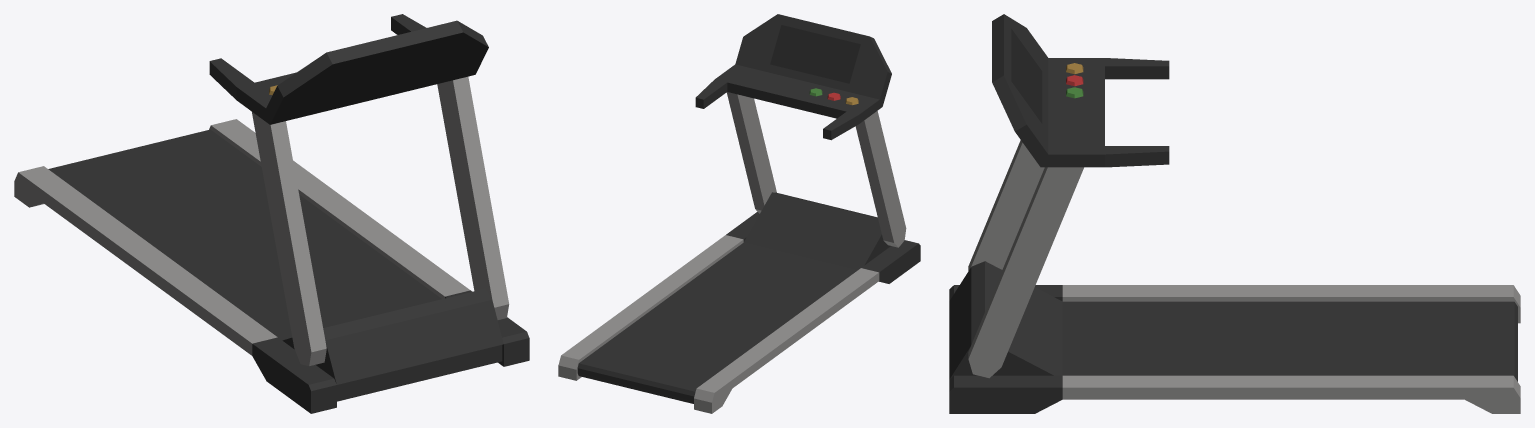
Rendered from SM_Props_Interior_Shop_Gym_Treadmill.fbx.
3 views of the same model, side by side, from view 1: azimuth 30°, elevation 25°; view 2: azimuth 150°, elevation 25°; view 3: azimuth 270°, elevation 25° (orthographic). The views are drawn at different scales.
Parts seen in each view (by area): view 1: SM_Props_Interior_Shop_Gym_Treadmill; view 2: SM_Props_Interior_Shop_Gym_Treadmill; view 3: SM_Props_Interior_Shop_Gym_Treadmill.
Boxes of the visible parts, x1,y1,x2,y2 form: SM_Props_Interior_Shop_Gym_Treadmill: (14, 14, 529, 413); SM_Props_Interior_Shop_Gym_Treadmill: (558, 14, 920, 413); SM_Props_Interior_Shop_Gym_Treadmill: (949, 14, 1520, 413).
Size of the model in its own units: 85 by 123 by 200.
